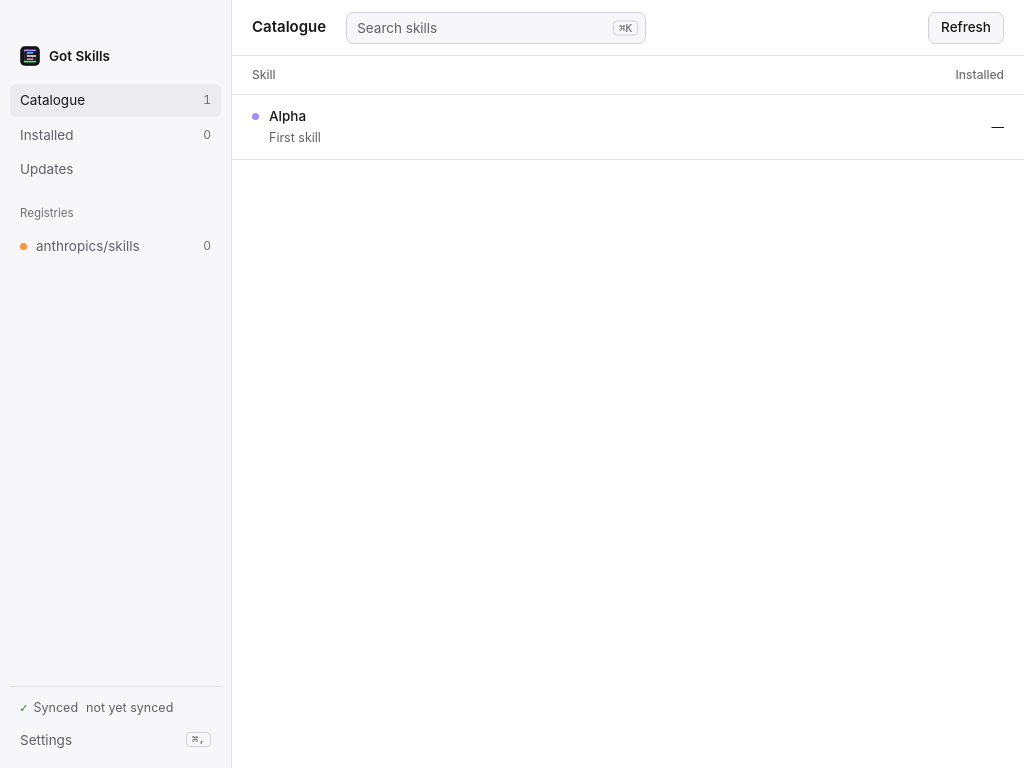
Test: App shell › detail hero omits unavailable updated and revision metadata cleanly
Click the text "Alpha": [288, 116] box [269, 106, 306, 126]
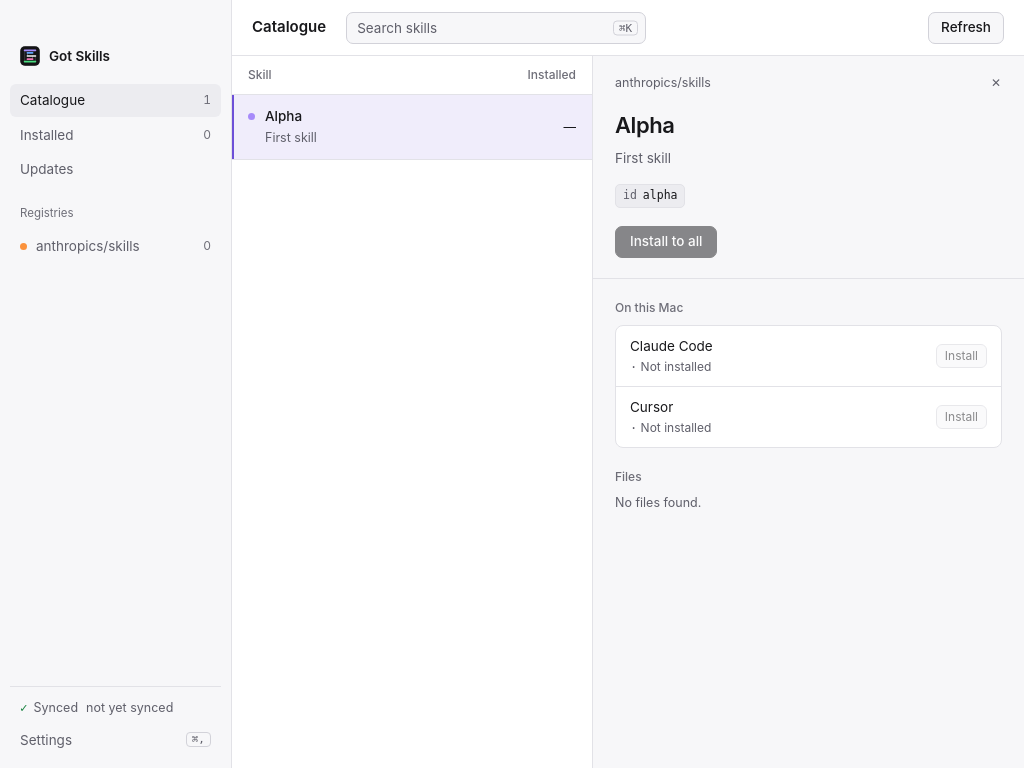
Result: the 1st text "anthropics/skills" is shown at [615, 74, 711, 93]
Result: the text "alpha" is shown at [643, 187, 678, 205]
